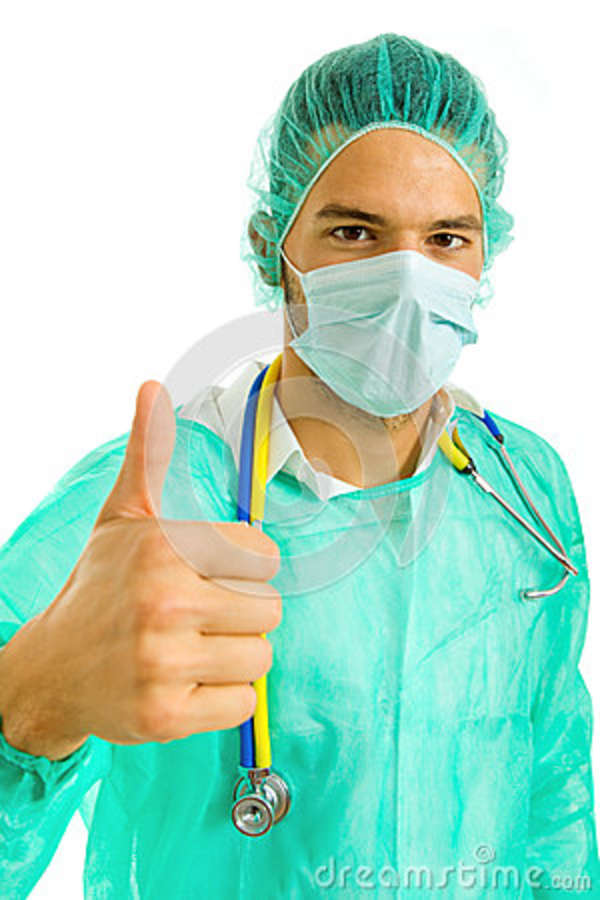mask: (260, 251, 503, 432)
